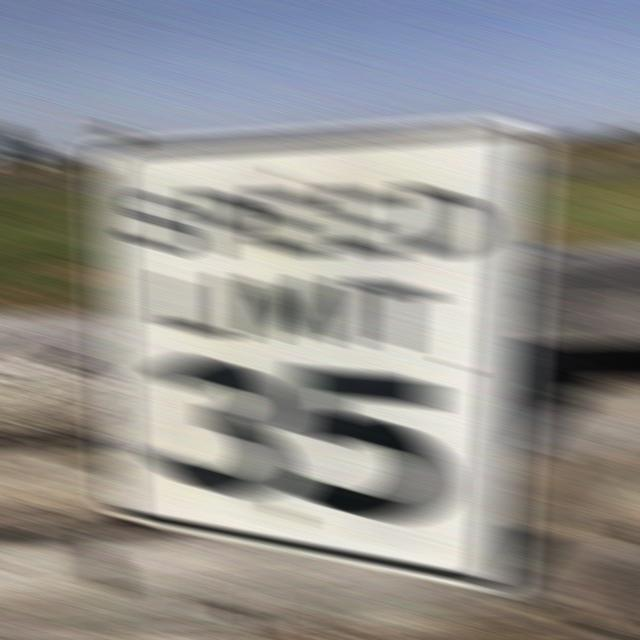speedLimit35: (91, 113, 532, 586)
